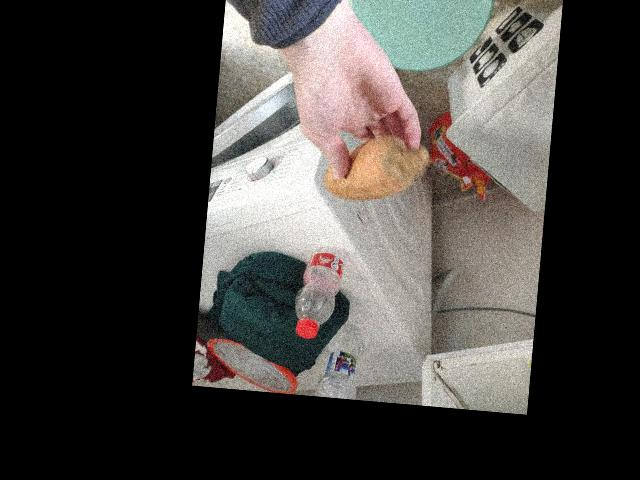sweet_potato: (328, 122, 420, 206)
